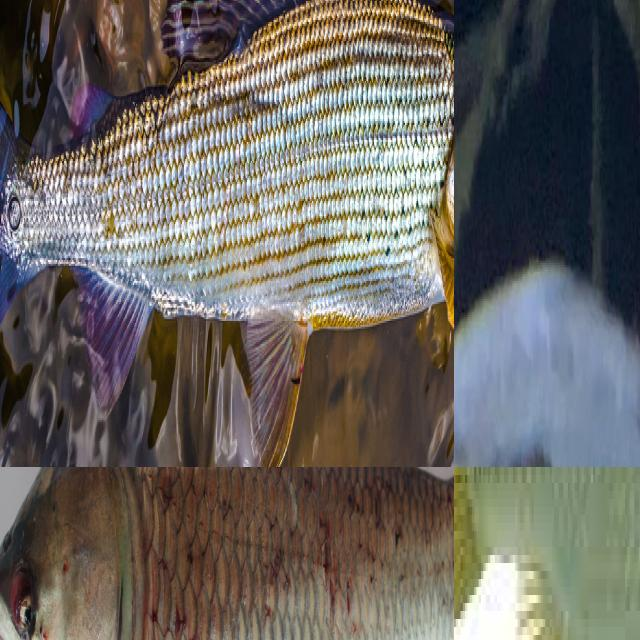fish: (0, 0, 454, 467), (0, 467, 454, 640), (454, 262, 640, 467), (454, 467, 640, 515)
